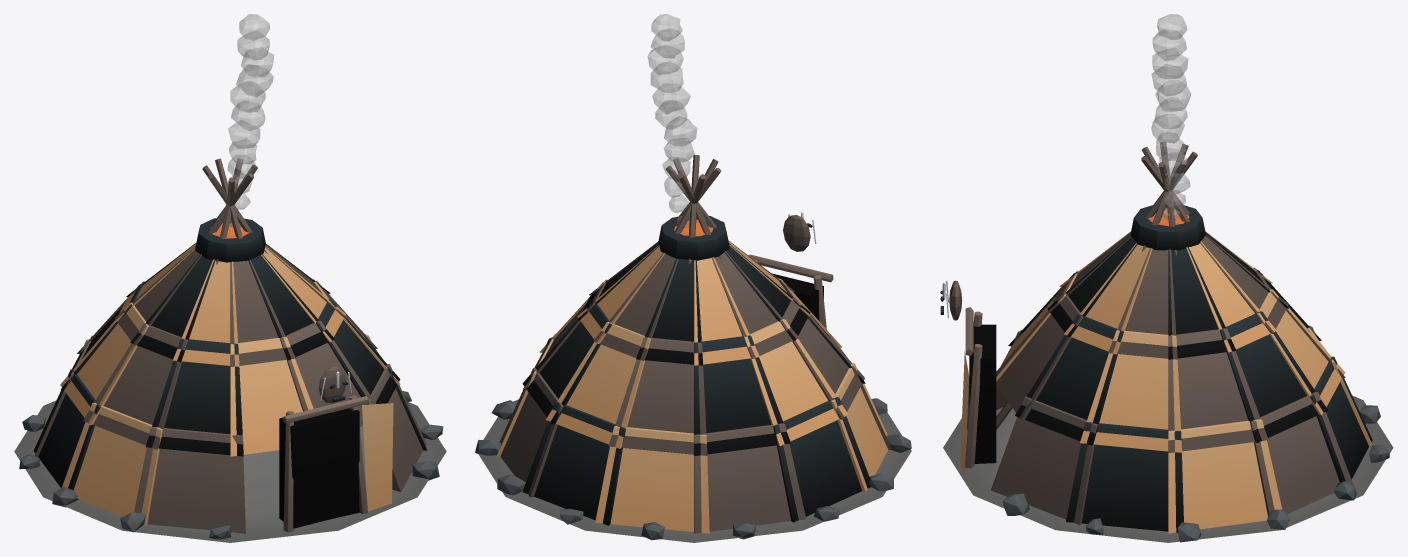
The model's file is sootmask_hut.glb.
The picture shows the model from 3 angles, left to right: view 1: azimuth 30°, elevation 25°; view 2: azimuth 150°, elevation 25°; view 3: azimuth 270°, elevation 25°; orthographic projection. The views are drawn at different scales.
Parts seen in each view (by area): view 1: sootmask_hut; view 2: sootmask_hut; view 3: sootmask_hut.
Boxes of the visible parts, left/top/right/bottom form: sootmask_hut: left=14, top=14, right=446, bottom=542; sootmask_hut: left=475, top=14, right=911, bottom=542; sootmask_hut: left=940, top=14, right=1393, bottom=542.
Size of the model in its own units: 5.01 by 5.5 by 5.02.
3 materials, 3 textured.
